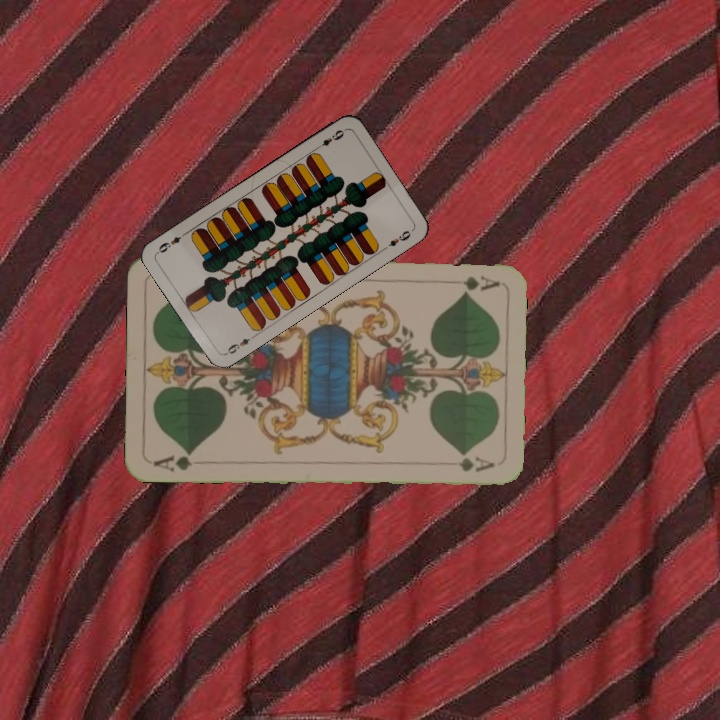E9: (221, 331, 257, 358), (311, 126, 347, 152)
GA: (149, 447, 195, 474), (459, 272, 501, 293)
